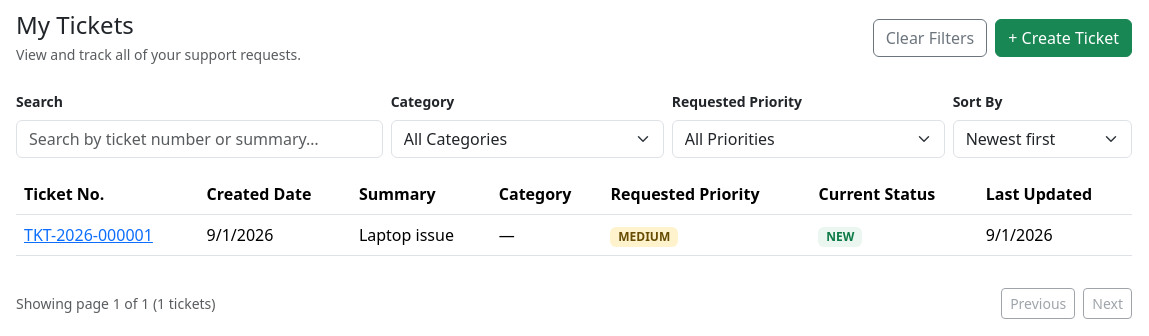
Test: MyTickets › AC-11: shows a distinct no-results state when a search returns zero matches
Check: the link "TKT-2026-000001" is shown, box [24,224,153,246]
Type "zzz_no_match" into the field labelled "Search" at [199, 139], box [16,120,383,158]
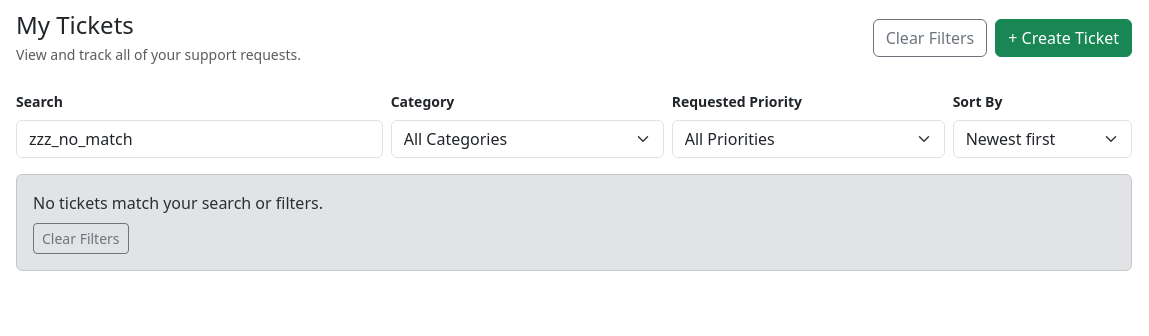
Check: the text "No tickets match your search or filters." is shown, box [33,192,323,214]
